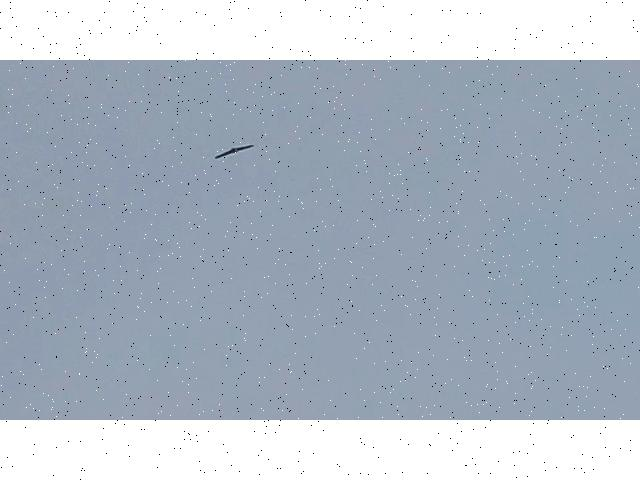Anti-Drone: (215, 142, 257, 160)
